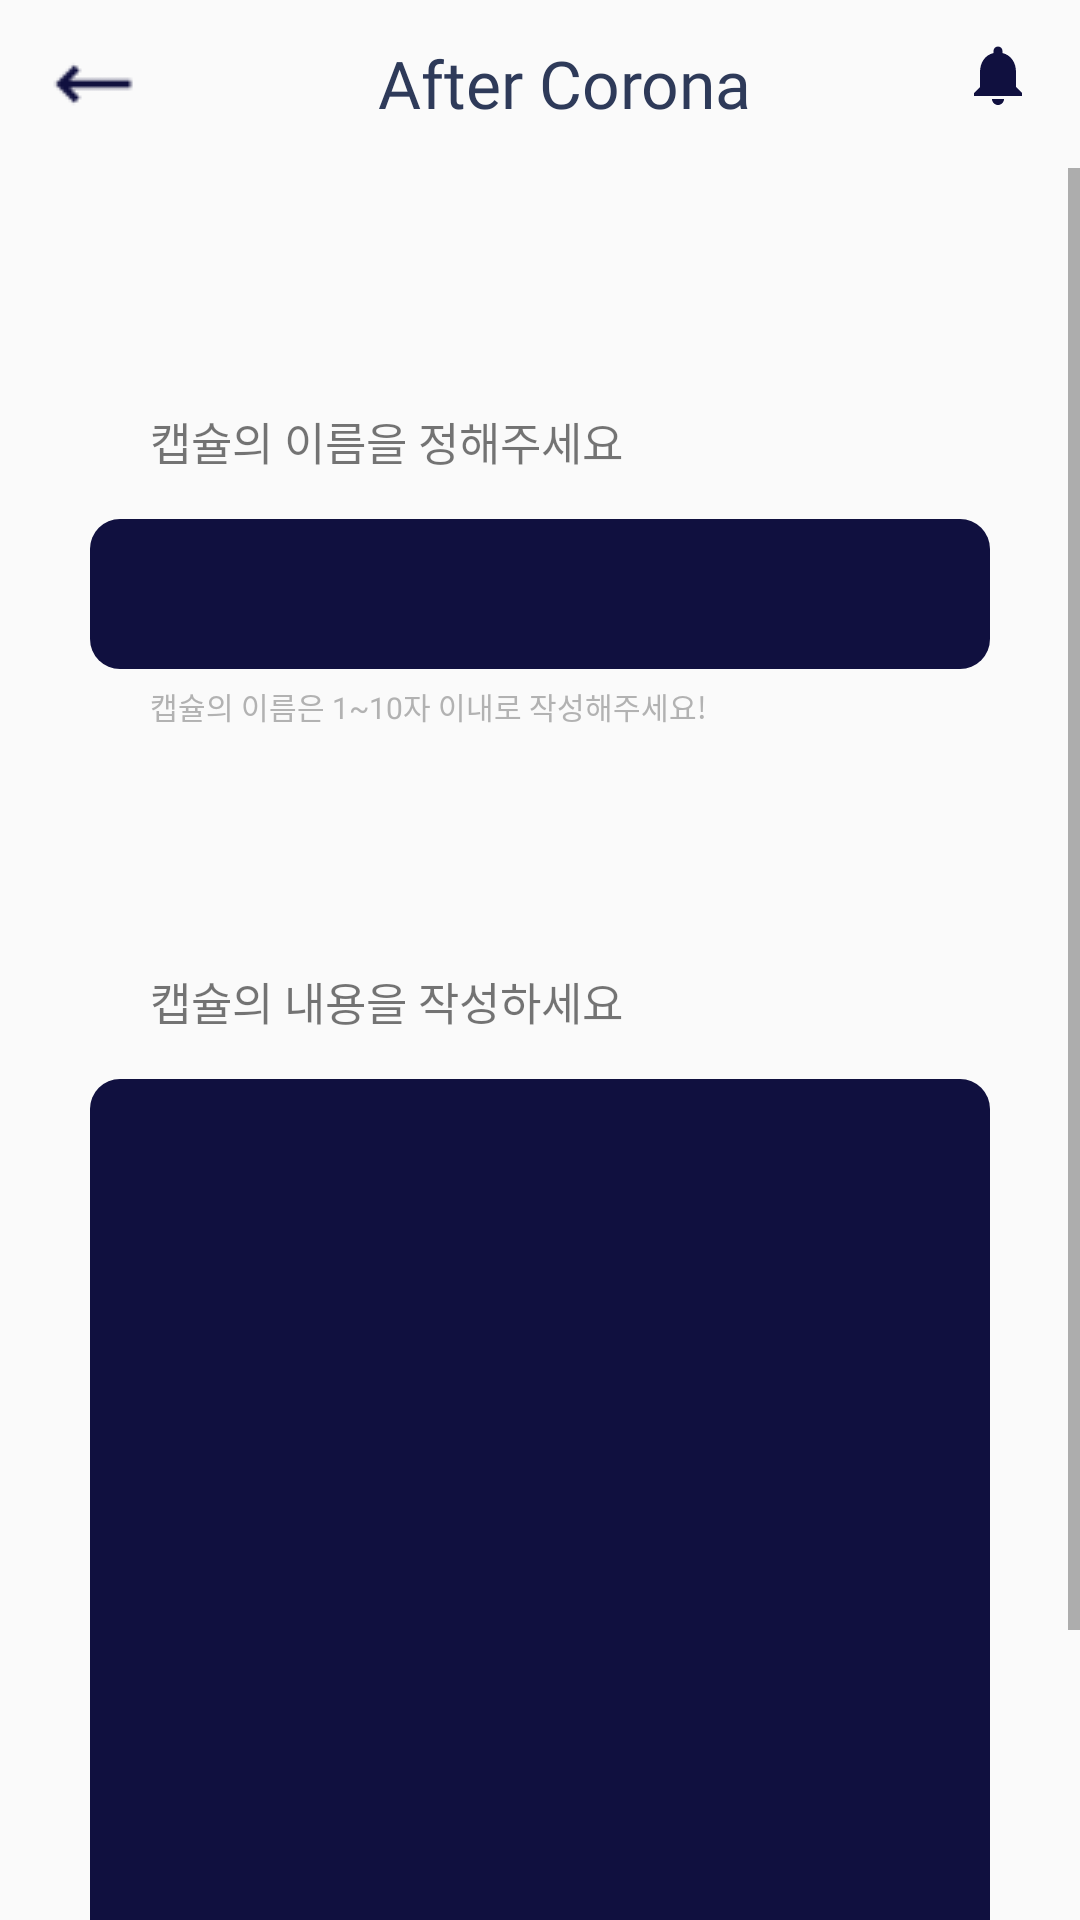

Named icons in this screenshot (1080*1920) and their centers, [x,y]:
long left: [94,84]
notifications: [998,75]
